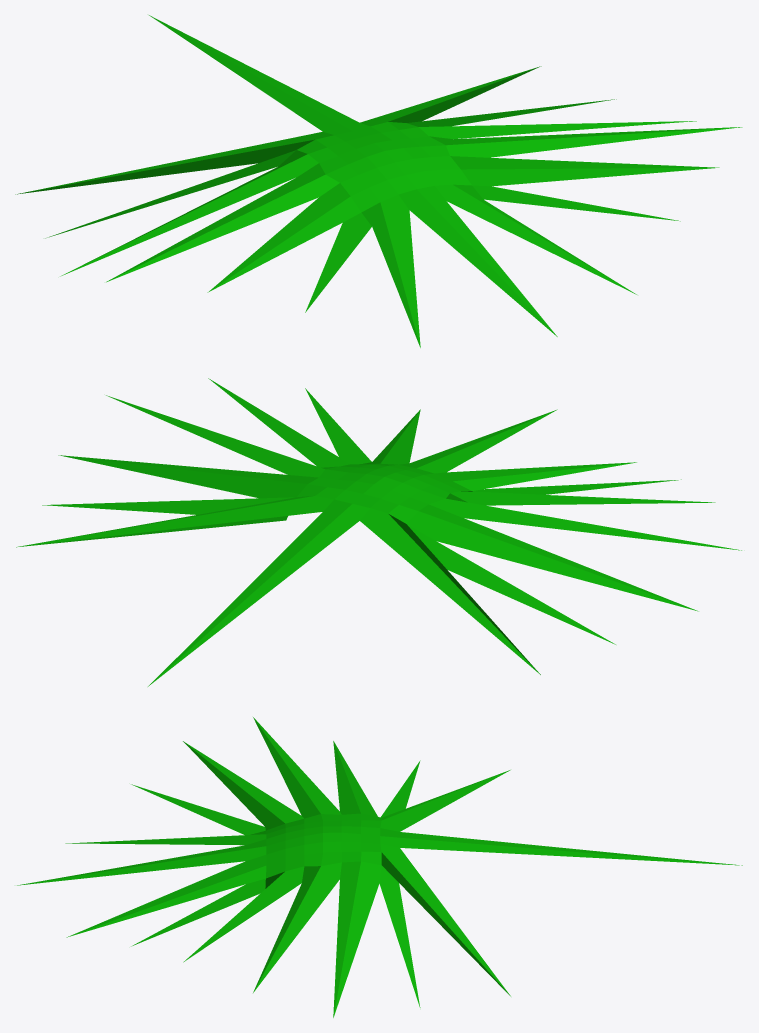
The model's file is palmateLeaf1.fbx.
3 views of the same model, one above another, from view 1: azimuth 30°, elevation 25°; view 2: azimuth 150°, elevation 25°; view 3: azimuth 270°, elevation 25° (orthographic). The views are drawn at different scales.
Parts seen in each view (by area): view 1: Plane, Underside; view 2: Plane; view 3: Plane.
Boxes of the visible parts, x1,y1,x2,y2 form: Plane: [18, 15, 742, 347]; Underside: [17, 67, 537, 201]; Plane: [16, 378, 741, 686]; Plane: [17, 717, 742, 1017].
Bounding box in the file's own units: 8.63 × 0.8389 × 9.57.
